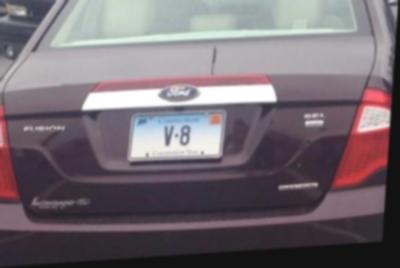License_Plate: (130, 107, 223, 159)
